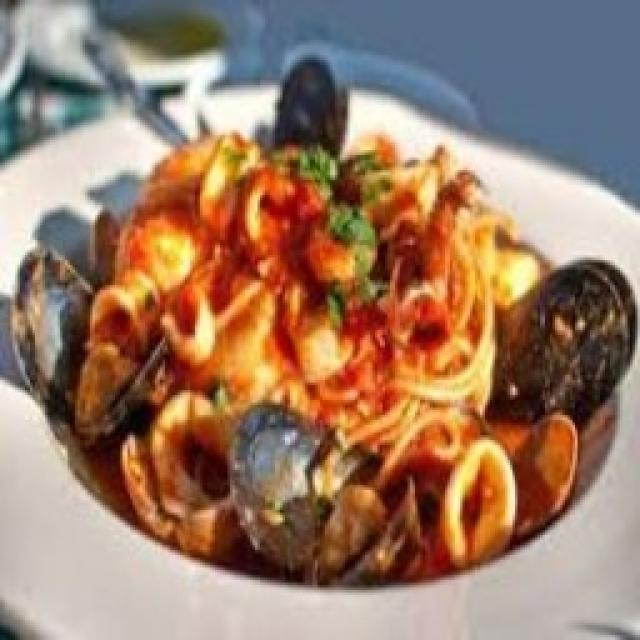Pasta: (8, 58, 628, 592)
